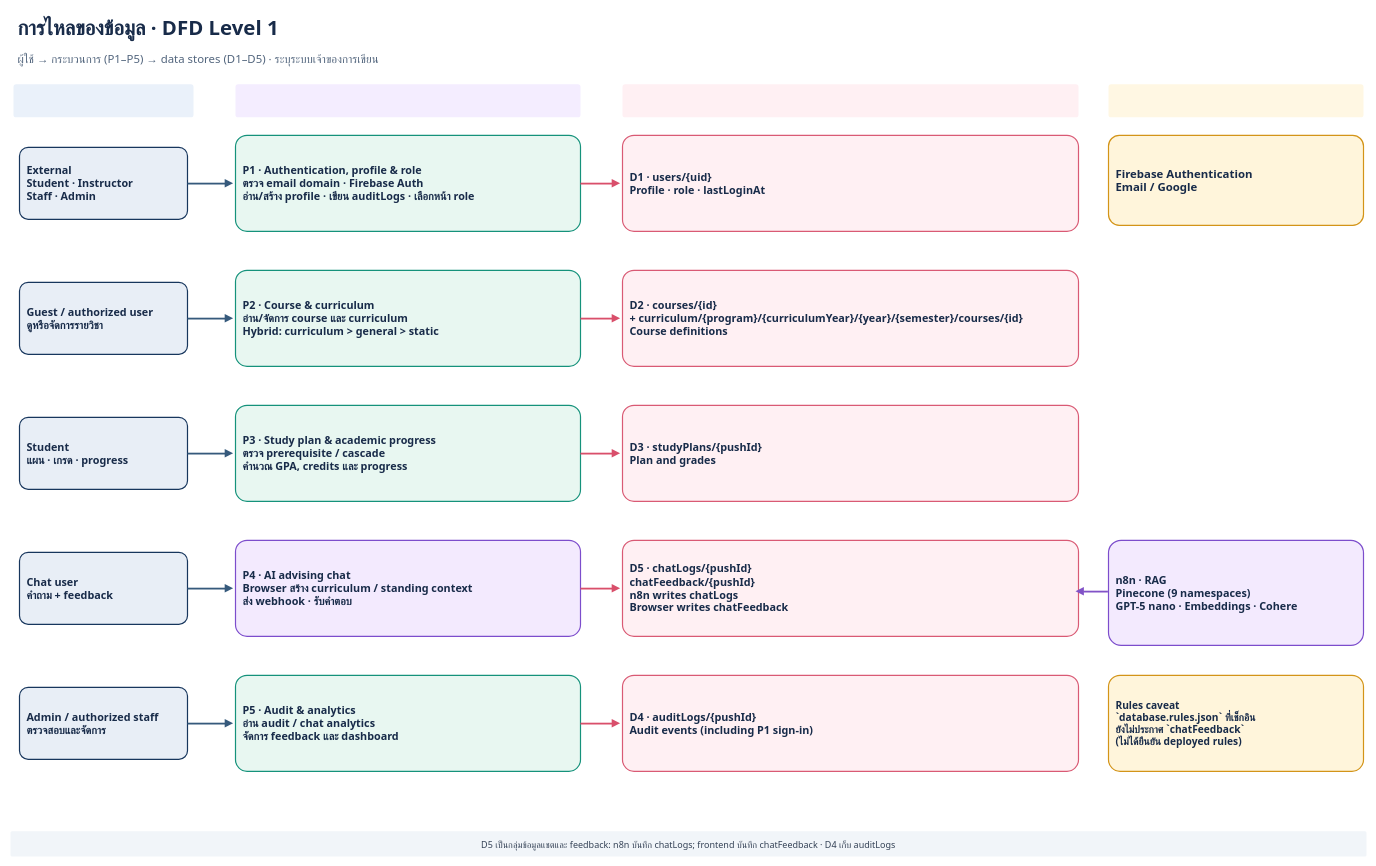
The diagram is 1376 pixels wide and 866 high, and some of its shapes have lost their labels. Each missing label, with the centre of its shape:
External services / caveat: the point at 1235,100
Processes: the point at 407,100
Realtime Database stores: the point at 850,100
ผู้ใช้ / ผู้ดูแล: the point at 103,100
